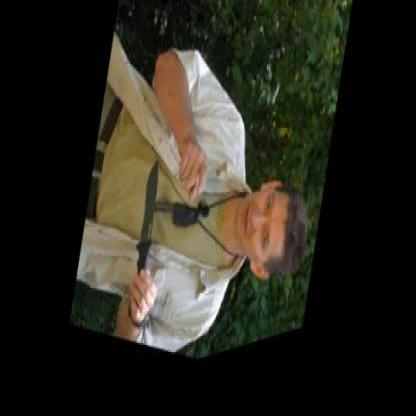knife: (118, 151, 180, 336)
